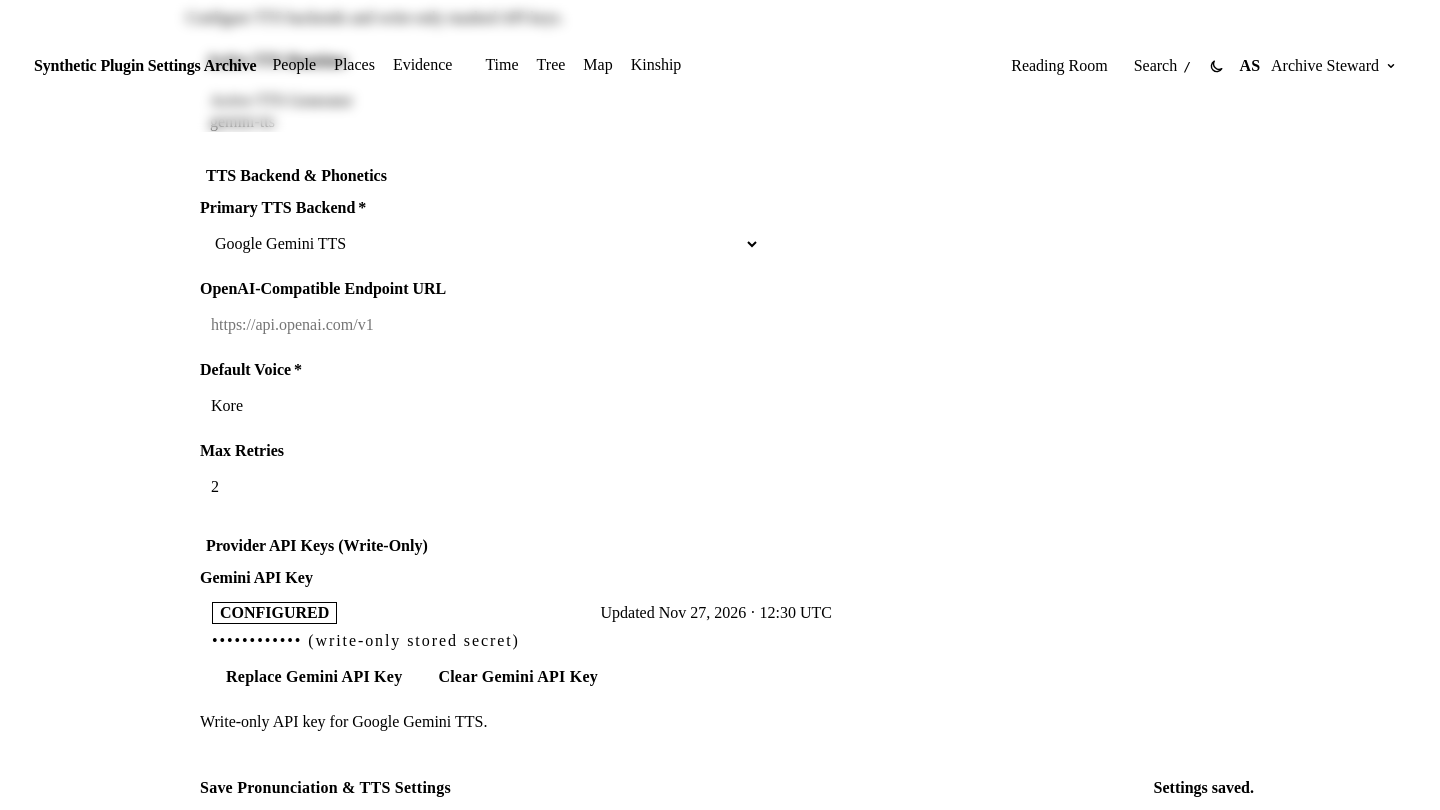
Scenario: Schema-driven Admin Plugin Settings UI & HttpWikiDataSource client › renders both reference plugins in AdminPage, masks secrets, preserves untouched secrets on partial save, and supports replace/clear/validation
Earlier steps of the test are not shown.
Later steps or results of the test are not shown.
(page scrolled)
Click the button "Clear Gemini API Key" at (518, 677), box [424,658,612,696]
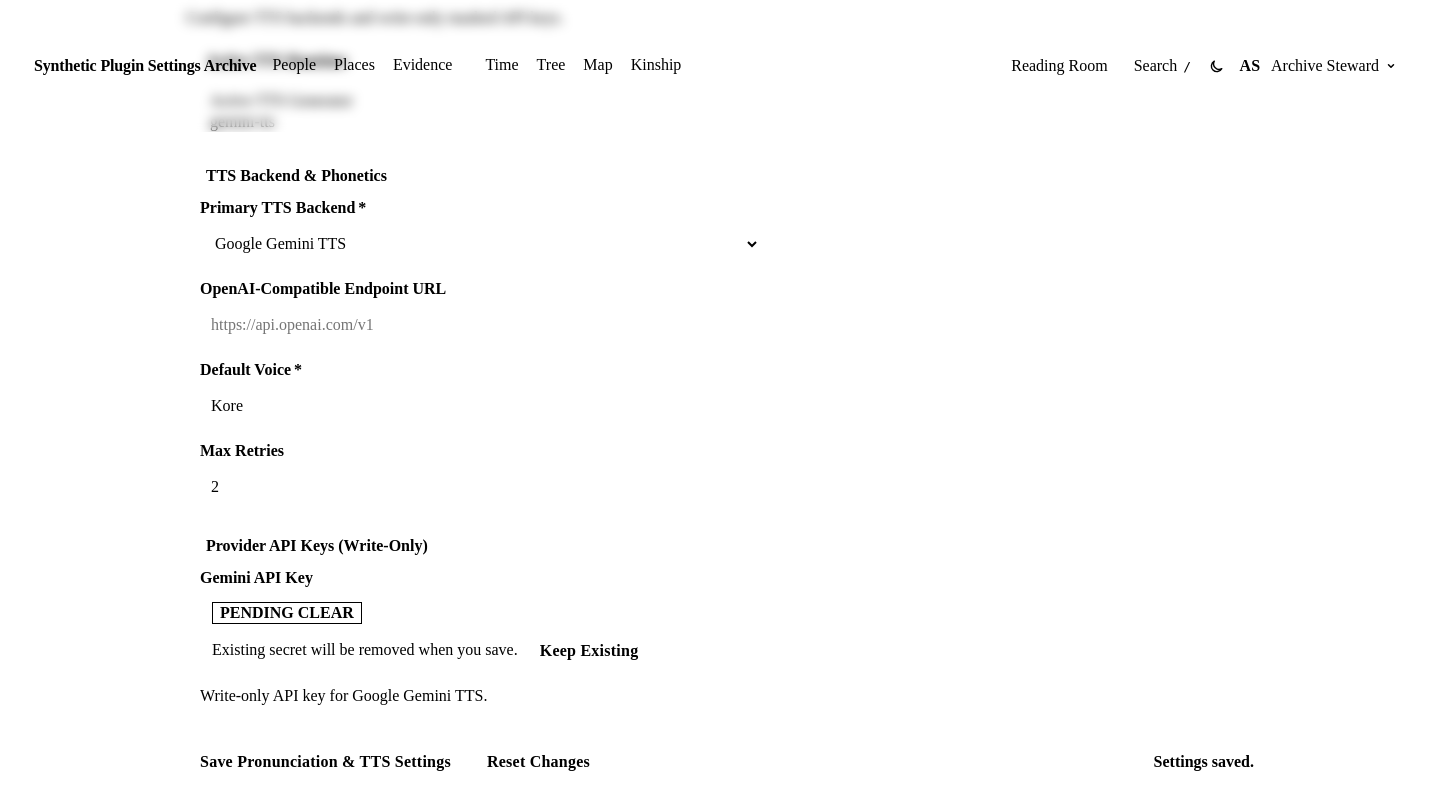
Expected: the element with test id "plugin-settings-card-kinloom-pronunciation" shows "Pending Clear", [220,604,354,621]
Click the button "Keep Existing" at (589, 651), box [526,632,652,670]
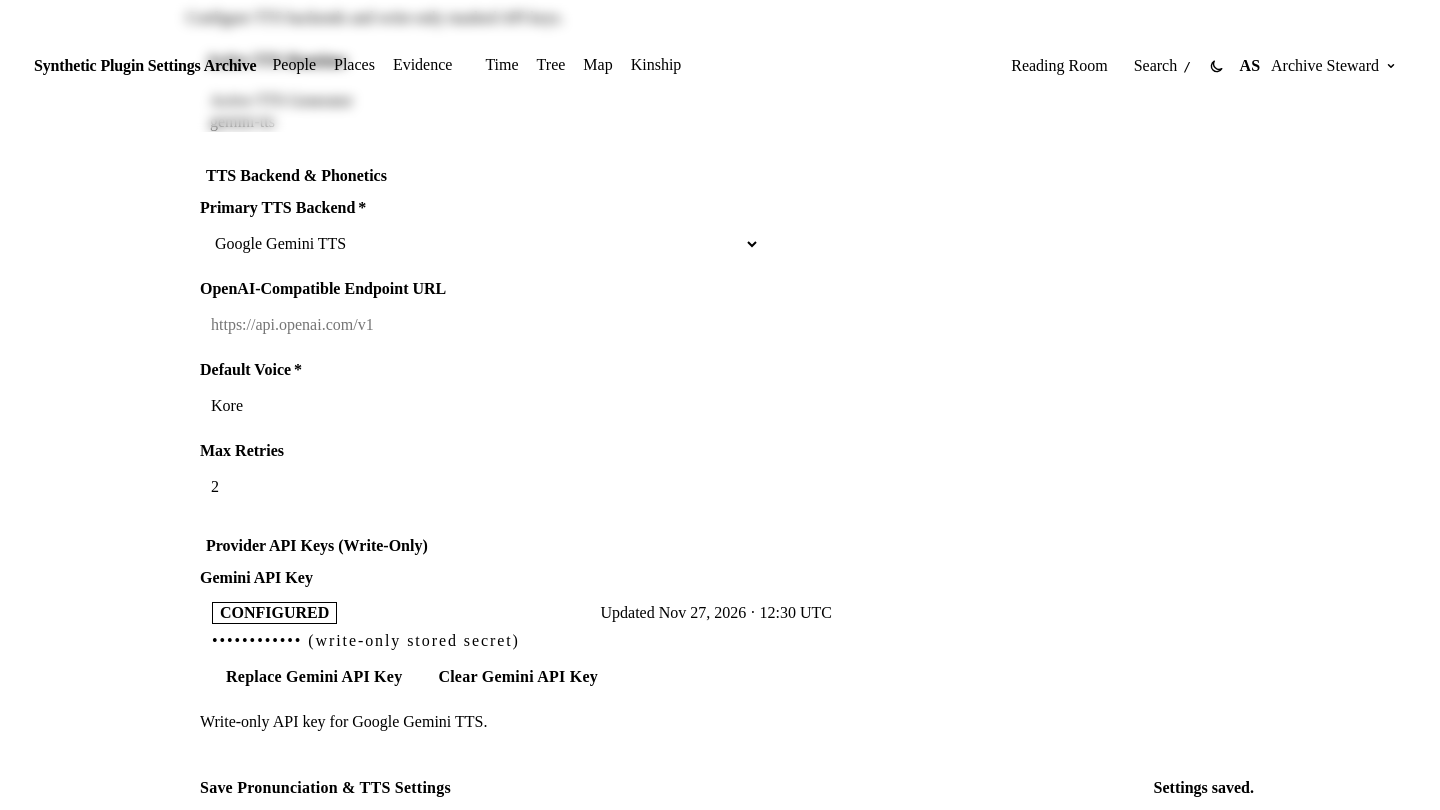
Expected: the text with test id "plugin-settings-card-kinloom-pronunciation" no longer shows "Pending Clear"
Click the button "Clear Gemini API Key" at (518, 677), box [424,658,612,696]
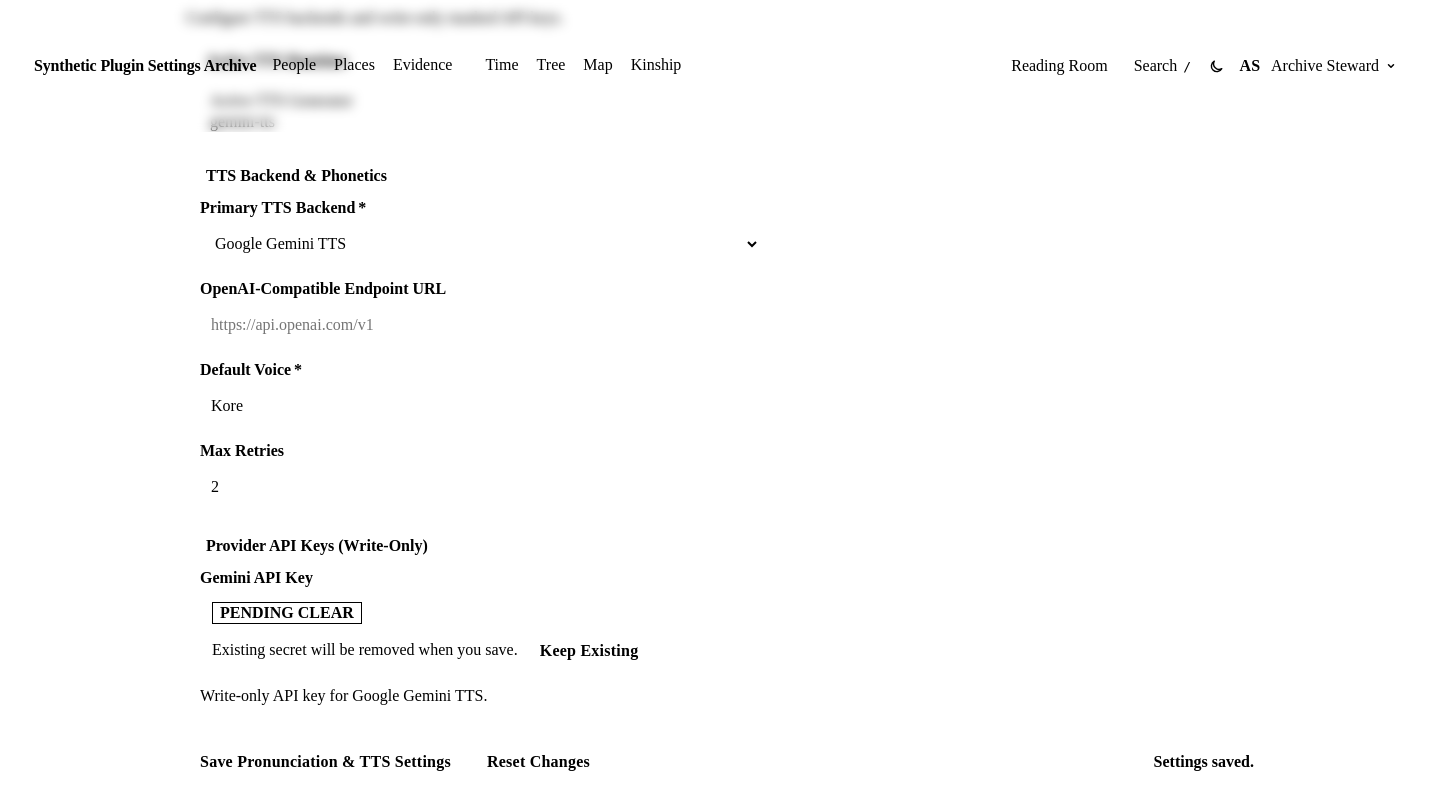
Click the button "Save Pronunciation & TTS Settings" at (325, 762), box [186,743,465,781]
(page scrolled)
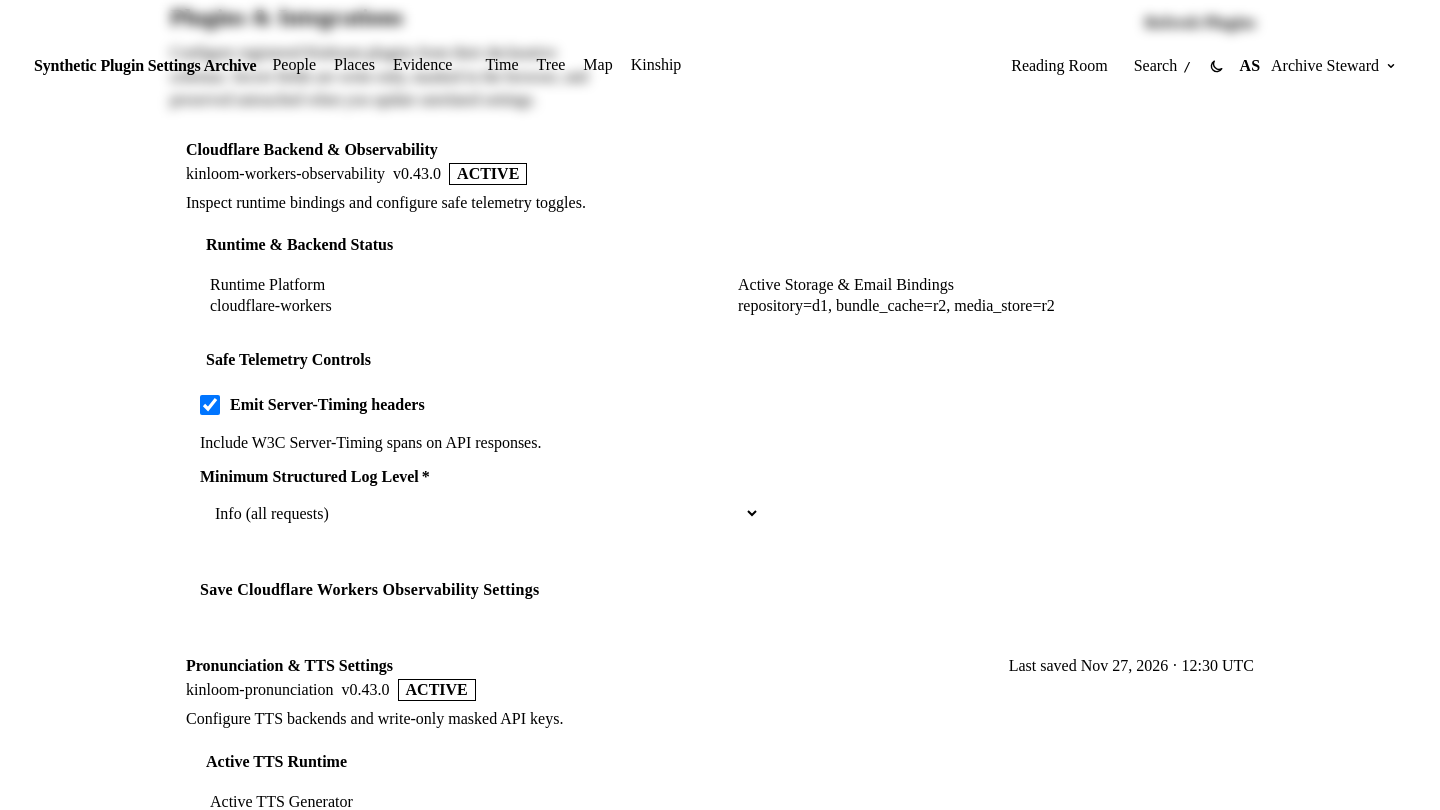
Click the switch named "emit_server_timing" at (210, 405), box [200,395,220,415]
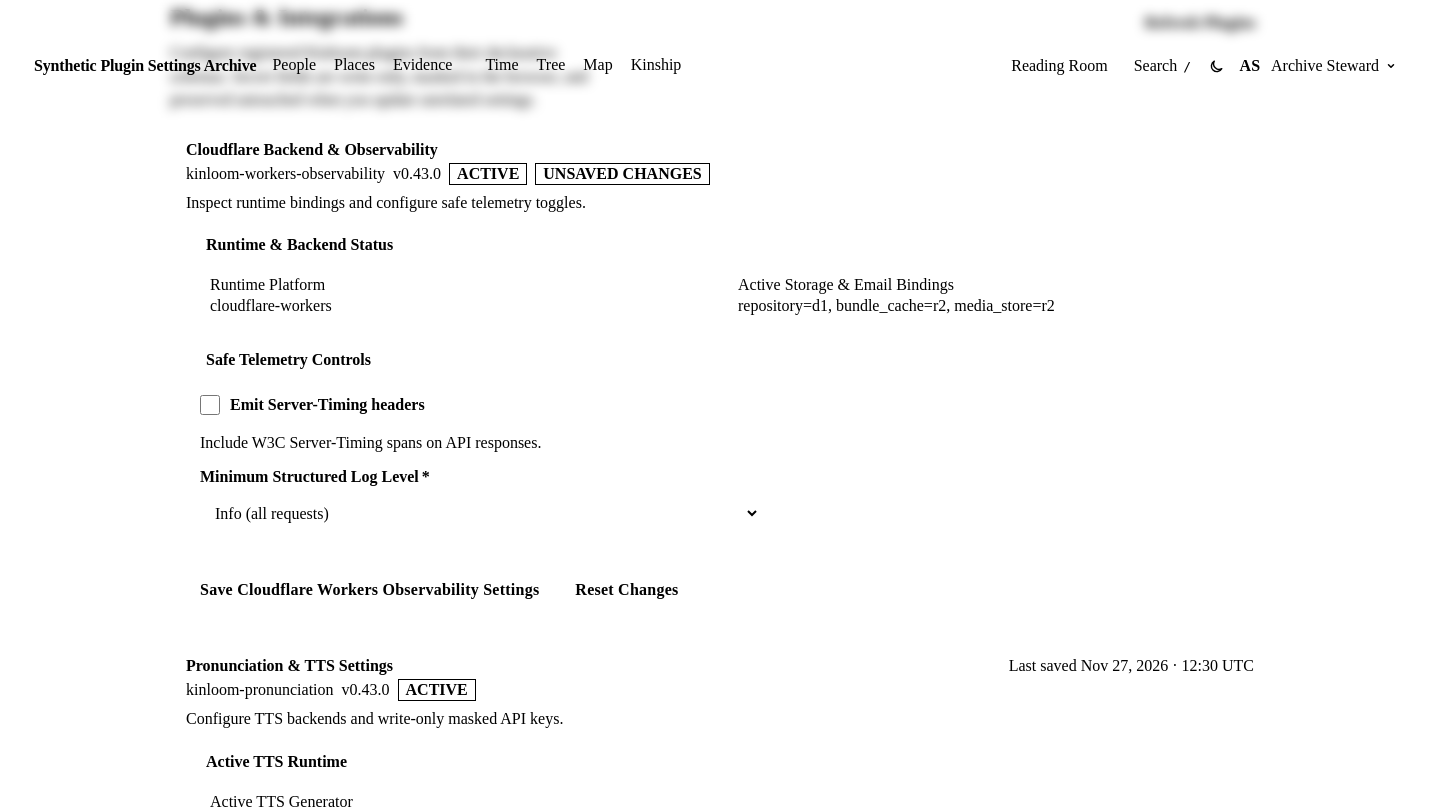
Expected: the switch named "emit_server_timing" is not checked, [200,395,220,415]
Click the button "Reset Changes" at (627, 590), box [561,572,692,610]
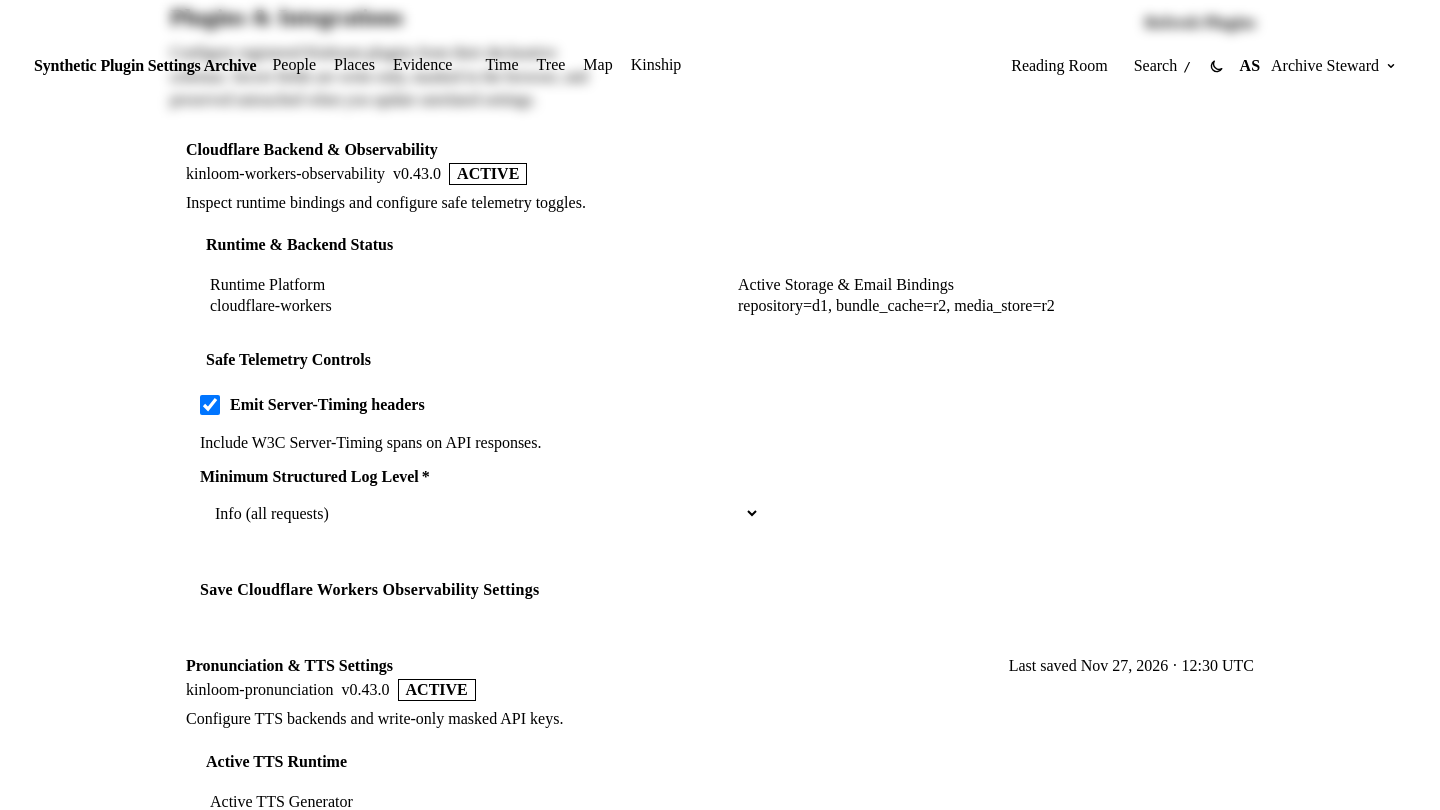
Expected: the switch named "emit_server_timing" is checked, [200,395,220,415]
